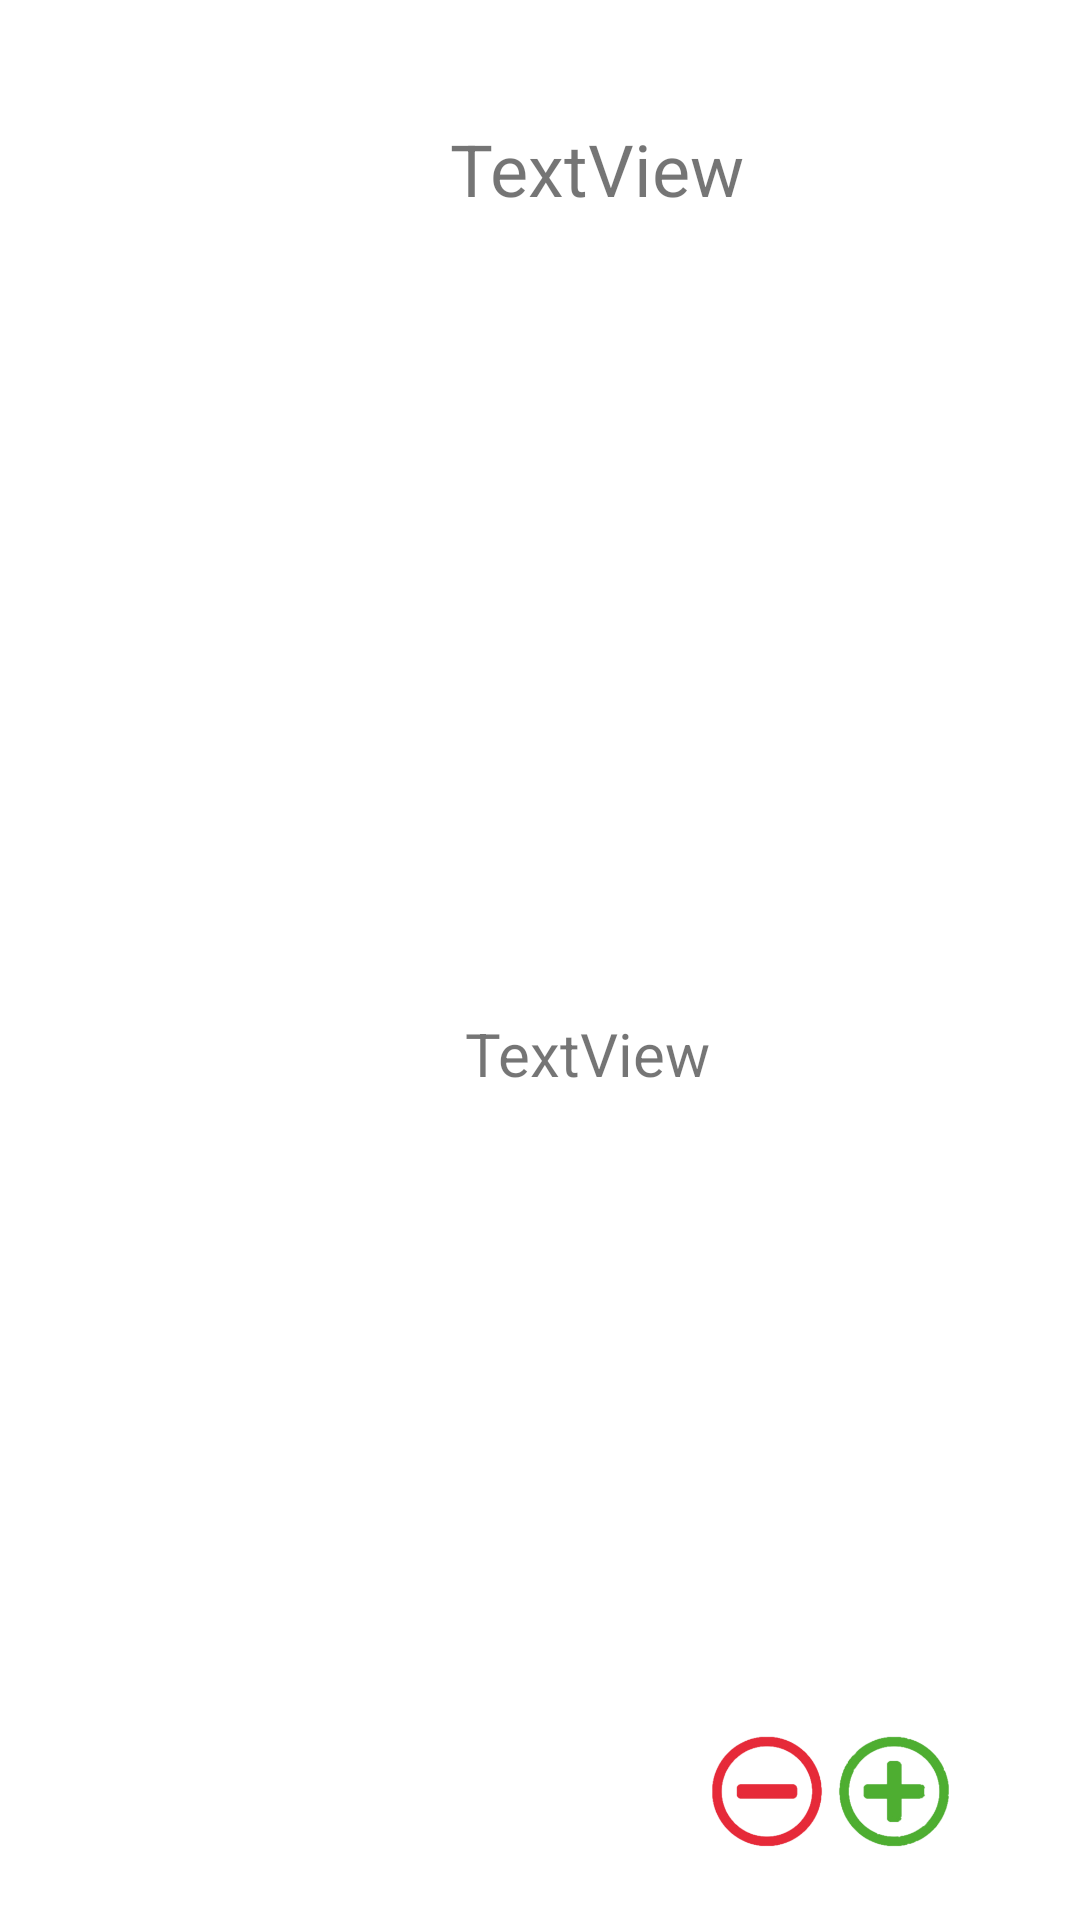

Named icons in this screenshot (1080x1920) and their centers, (x,y):
resta: (767,1791)
suma: (894,1791)
